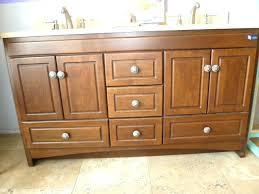cabinet_door: (9, 58, 56, 118), (57, 57, 104, 114), (165, 52, 207, 112), (209, 53, 250, 111), (164, 116, 246, 140), (105, 53, 164, 86), (27, 123, 111, 146), (108, 88, 162, 116), (109, 118, 162, 145)
handle: (200, 123, 213, 136), (129, 98, 140, 111), (46, 70, 57, 80), (60, 130, 71, 140), (202, 64, 212, 75), (210, 65, 220, 76), (132, 128, 141, 140), (56, 70, 66, 80), (129, 65, 139, 75)
